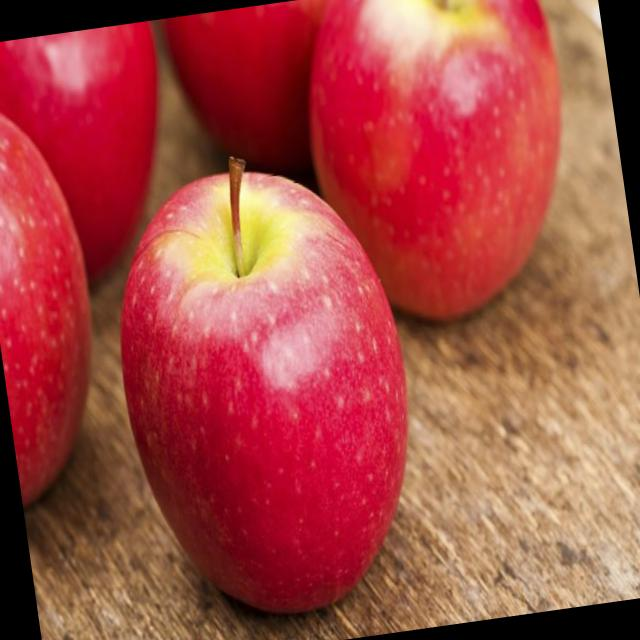apple: (95, 147, 432, 634), (275, 0, 605, 343)
